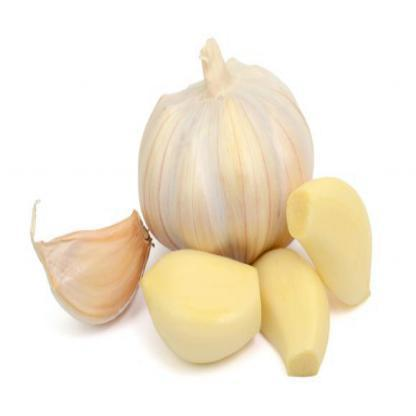garlic: (145, 70, 305, 244), (36, 194, 146, 336), (142, 237, 265, 356), (291, 183, 379, 316), (252, 244, 330, 387)
